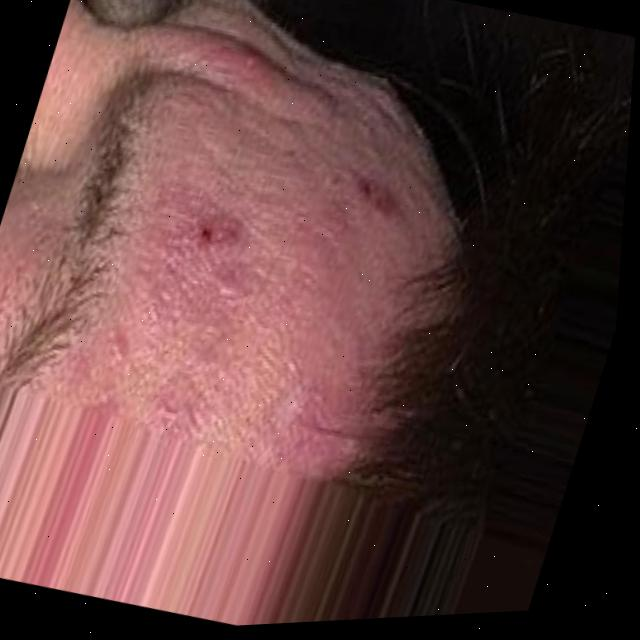Rosacea: (163, 203, 240, 283), (335, 175, 401, 235)
